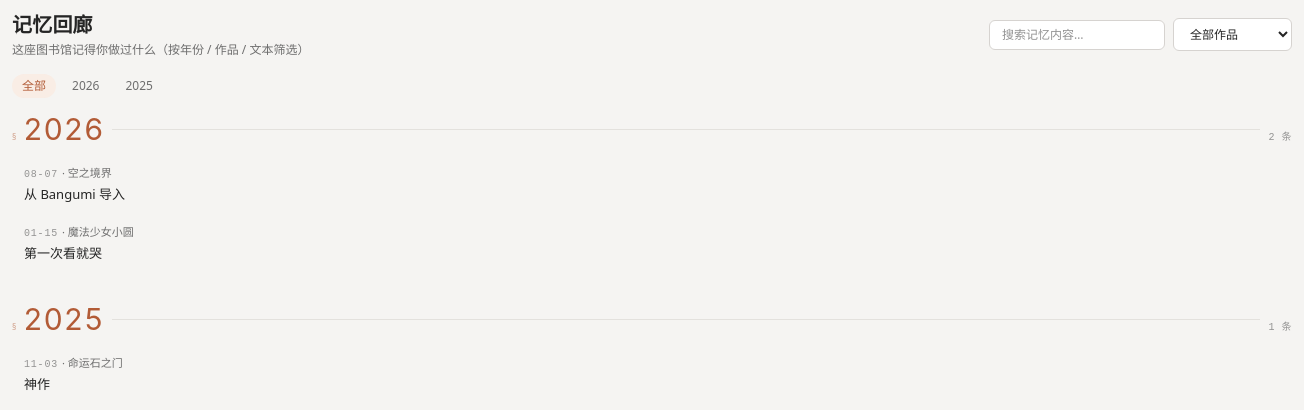
记忆回廊页面 › Phase D：文本筛（summary 子串，与后端 ?search= 字段一致）；清除恢复
The image size is (1304, 410).
Expected: the text "神作" is shown, [24,375,50,393]
Type "神作" into the field labelled "搜索记忆".
click(1077, 35); type("神作")  # box [989,20,1165,50]
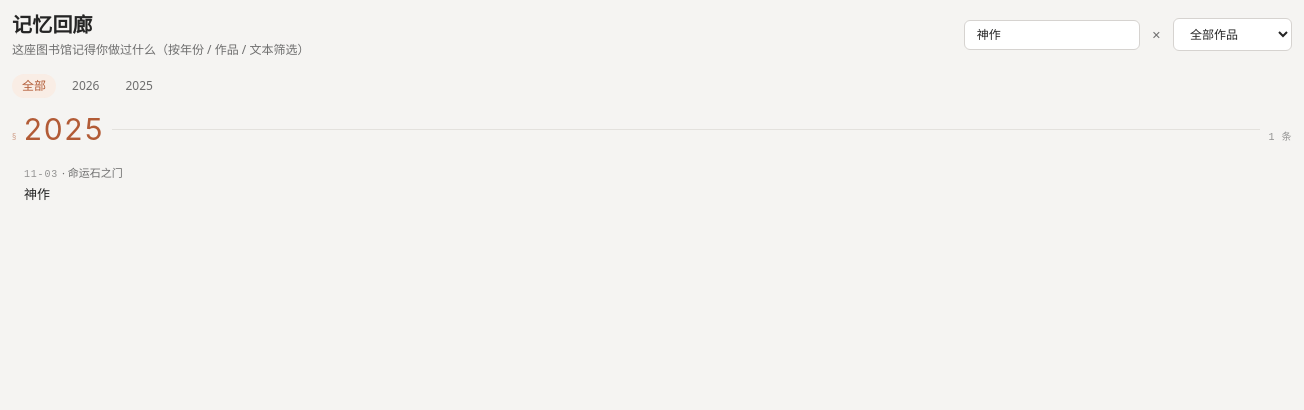
Expected: the text "神作" is shown, [24,184,50,202]
Now the button "第一次看就哭" is gone
# 清除 → 恢复全部
Click the button titled "清除搜索".
click(1156, 35)  # box [1148,26,1165,43]
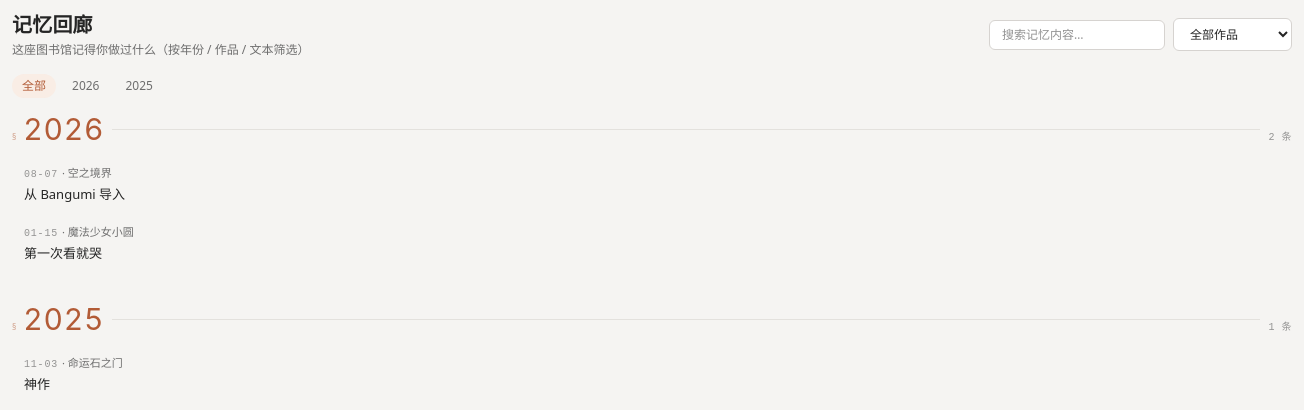
Now the text "第一次看就哭" is shown, box [24,244,102,262]
